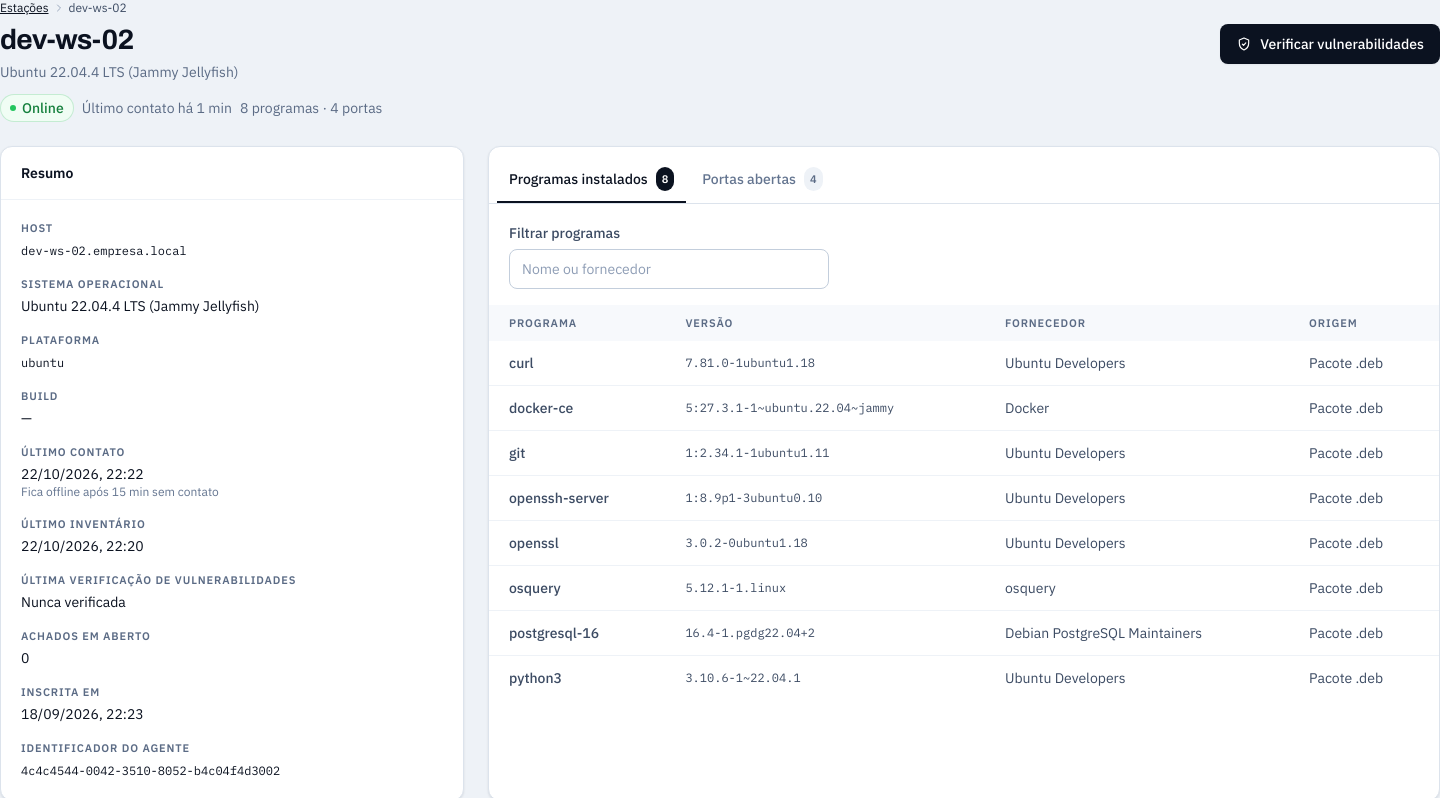
Test: B14 — verificar vulnerabilidades no detalhe da estação › B36/DT23: separa os resolvidos por versão dos que sumiram do inventário
This screenshot has width=1440, height=798.
Expected: the heading "dev-ws-02" is shown, top-left (0, 24), bottom-right (133, 55)
Click the button "Verificar vulnerabilidades". click: (1330, 44)
box: top-left (1220, 24), bottom-right (1439, 64)
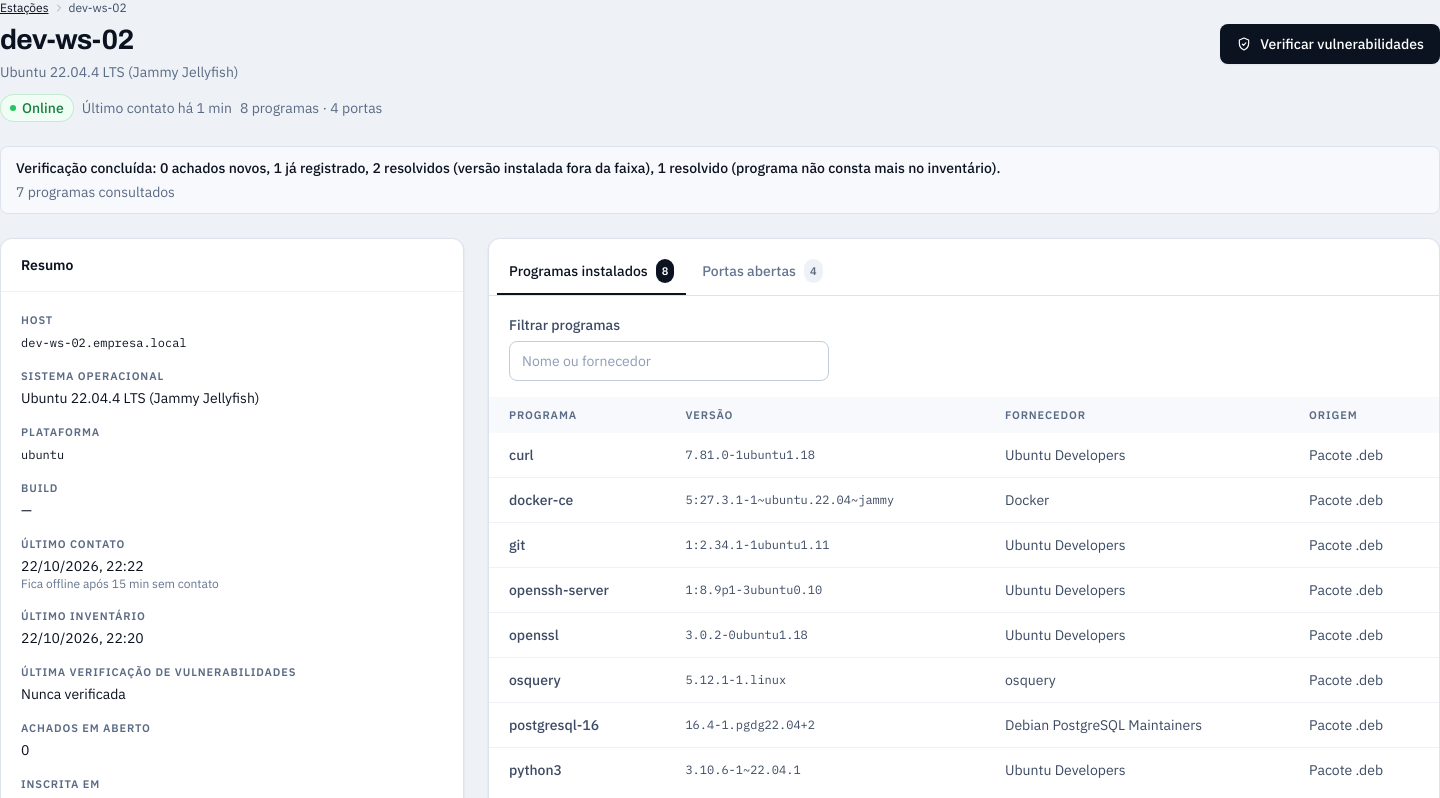
Expected: the message with test id "verification-result" does not show "atualizado ou removido", top-left (0, 146), bottom-right (1439, 214)
Result: the message with test id "verification-result" shows "2 resolvidos (versão instalada fora da faixa)" at top-left (160, 159), bottom-right (997, 177)
Result: the message with test id "verification-result" shows "1 resolvido (programa não consta mais no inventário)" at top-left (160, 159), bottom-right (997, 177)
